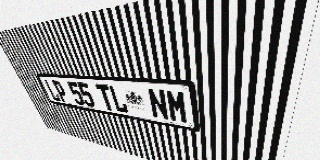5: (77, 82, 96, 108), (67, 81, 86, 106)
L: (108, 85, 129, 114), (44, 80, 61, 102)
M: (165, 89, 189, 124)
N: (147, 88, 170, 121)
P: (52, 80, 70, 103)
T: (95, 84, 116, 111)
